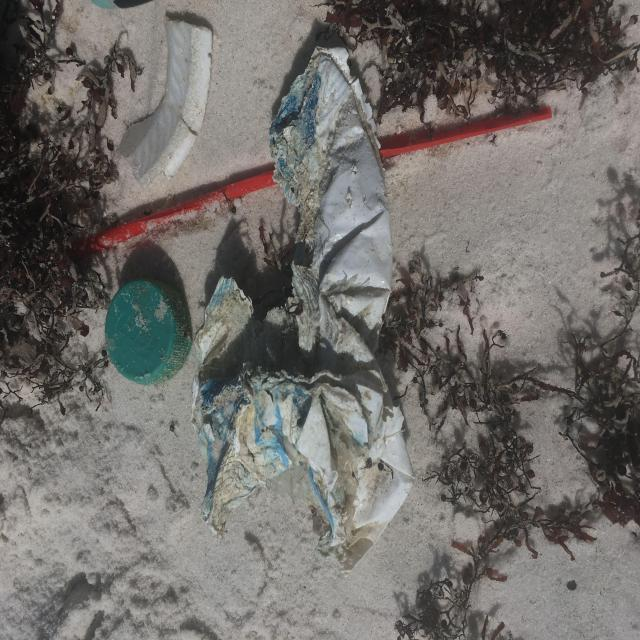litter: (179, 51, 420, 603), (68, 97, 563, 267), (85, 264, 193, 408)
